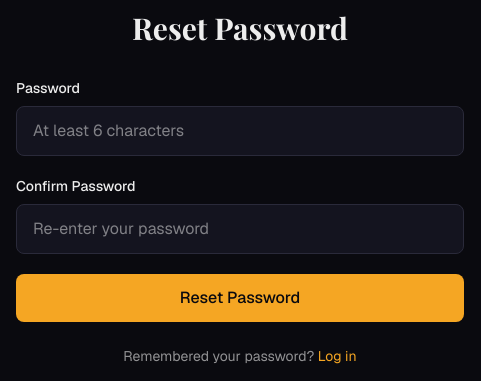
Test: ResetPasswordPage › disables button while loading
Type "newpassword123" into the password field labelled "Password" at [240, 131], box [16,106,464,156]
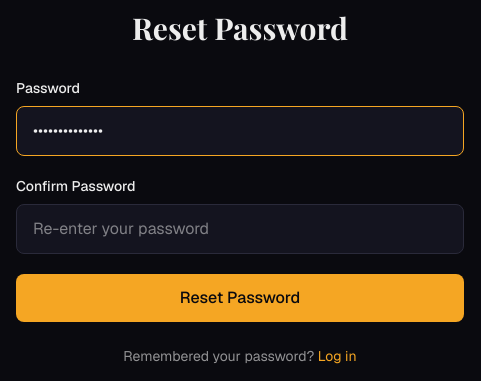
Type "newpassword123" into the password field labelled "Confirm Password" at [240, 229], box [16,204,464,254]
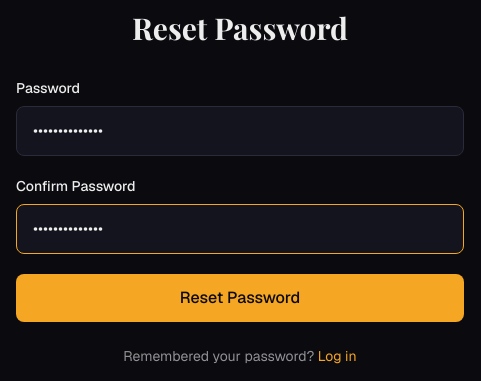
Click the button "Reset Password" at [240, 298], box [16,274,464,322]
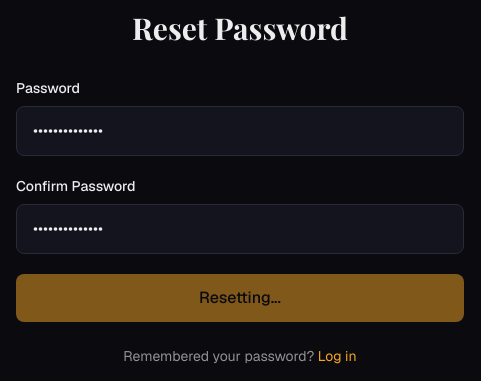
Result: the button is disabled at [16,274,464,322]
